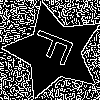F: (29, 26, 84, 72)
